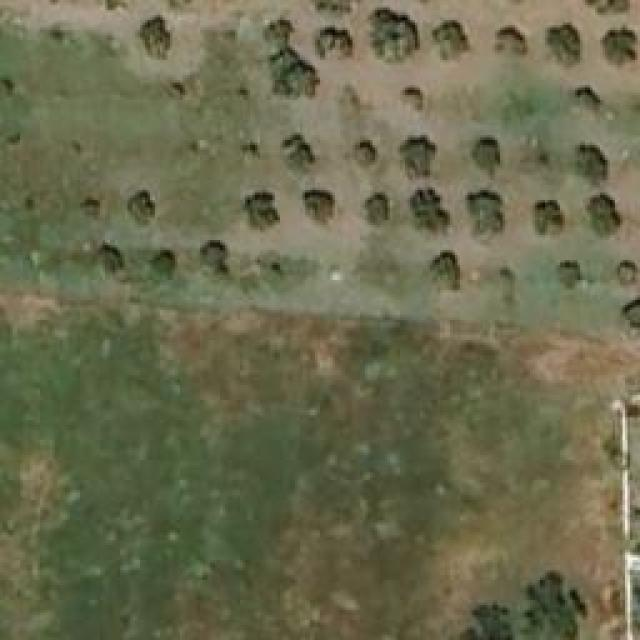Tree: (520, 572, 588, 640), (365, 8, 420, 61), (265, 50, 320, 98), (543, 22, 586, 70), (465, 190, 503, 238), (410, 188, 450, 231), (470, 602, 513, 640), (280, 133, 320, 173), (600, 28, 640, 68), (242, 193, 280, 233), (400, 138, 438, 178), (585, 195, 620, 238), (138, 18, 171, 61), (313, 28, 356, 61), (430, 250, 463, 293), (432, 20, 470, 53), (533, 197, 566, 235), (343, 135, 378, 170), (305, 0, 365, 20), (473, 138, 503, 178), (303, 190, 336, 225), (200, 240, 230, 278), (578, 145, 608, 183), (127, 190, 155, 228), (360, 193, 390, 226), (263, 15, 293, 48), (617, 297, 640, 340), (495, 27, 528, 55), (147, 250, 175, 280), (575, 85, 603, 110), (555, 260, 580, 288), (615, 260, 638, 288), (100, 247, 120, 275), (402, 85, 420, 110)
